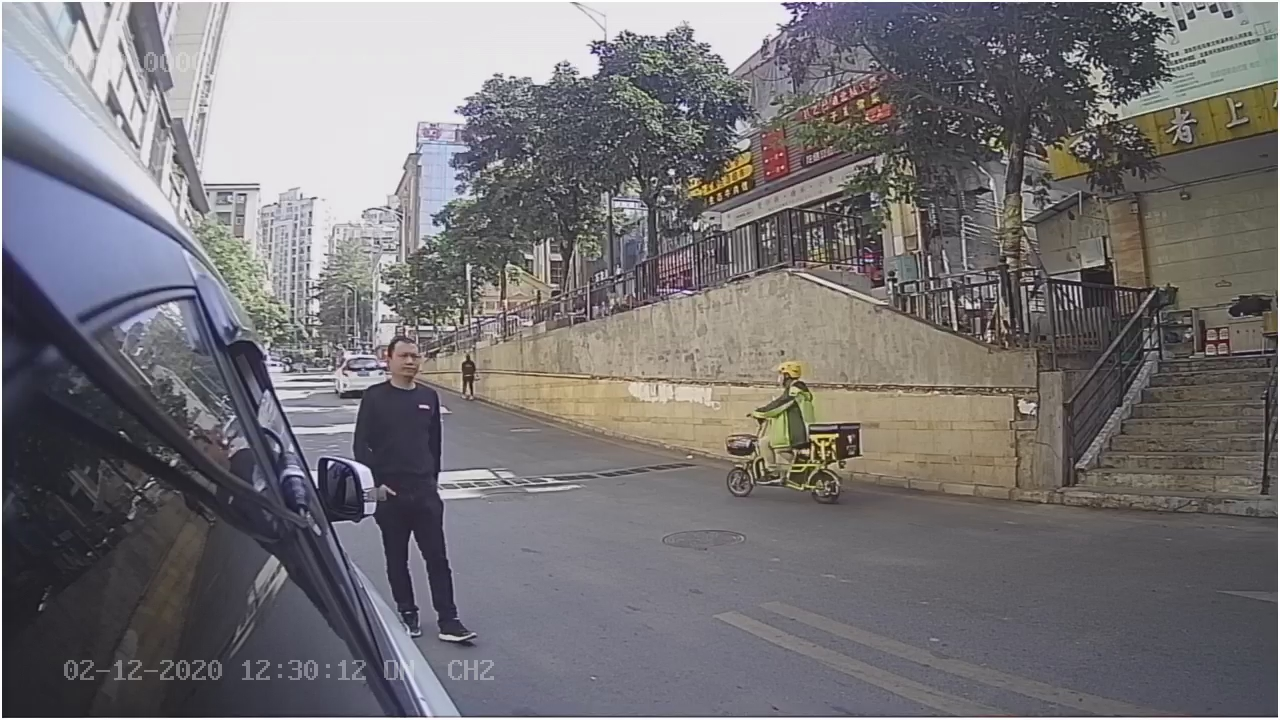person: (350, 336, 460, 459)
